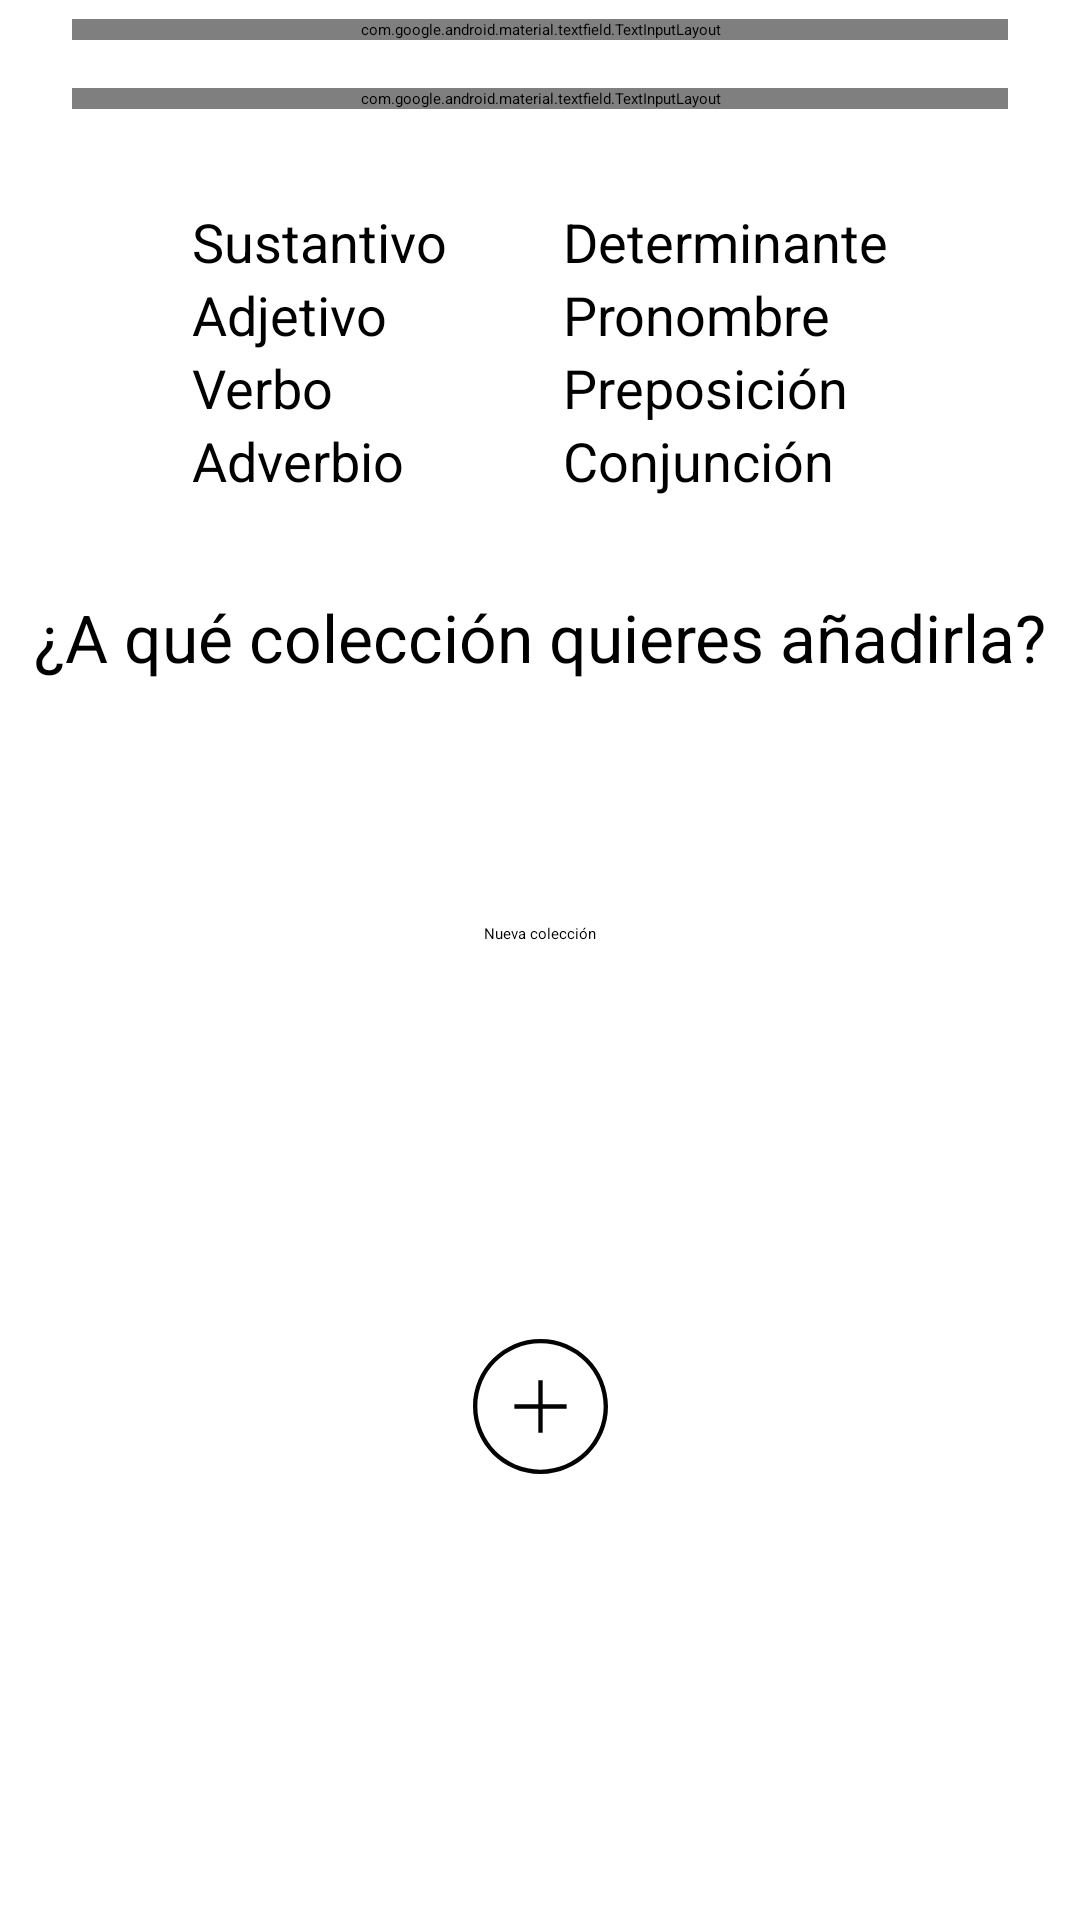

Icon click points for this 1080 × 1920 phone screenshot, format point (x, y):
add: point (540, 1406)
